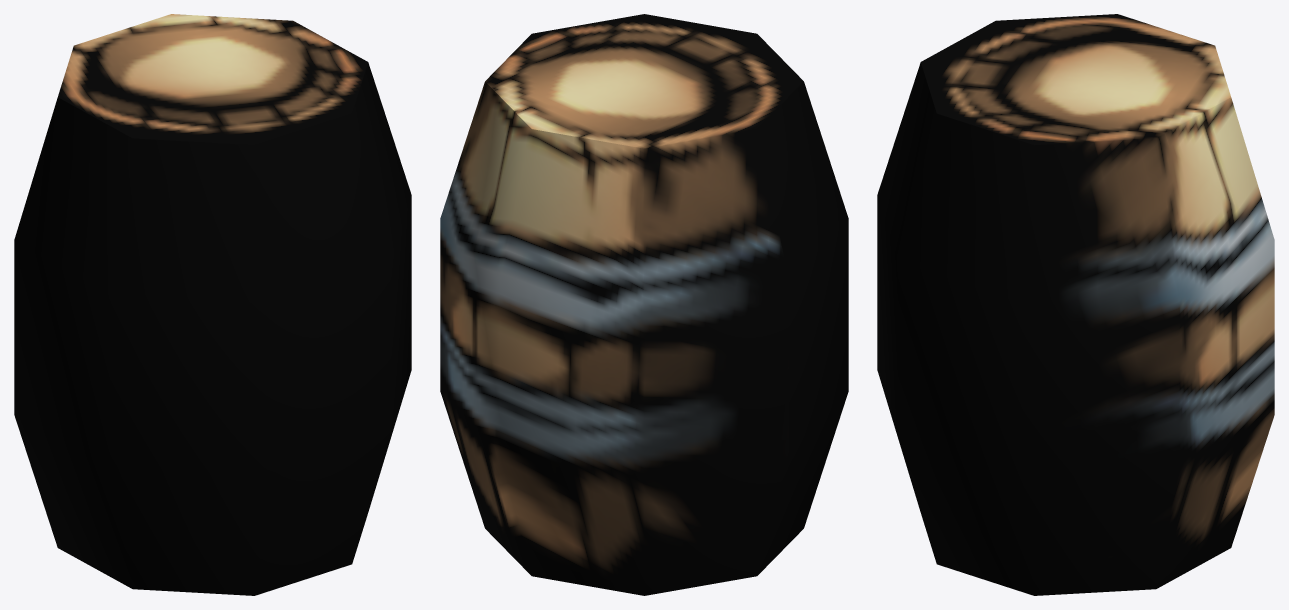
File: sud.FBX
3 renders of one model, left to right at view 1: azimuth 30°, elevation 25°; view 2: azimuth 150°, elevation 25°; view 3: azimuth 270°, elevation 25°, orthographic.
Parts seen in each view (by area): view 1: meshsud; view 2: meshsud; view 3: meshsud.
Part boxes in pixels (x1,y1,x2,y2): meshsud: [14, 14, 411, 595]; meshsud: [440, 14, 848, 595]; meshsud: [877, 14, 1274, 595].
Bounding box in the file's own units: 111 × 139 × 111.
